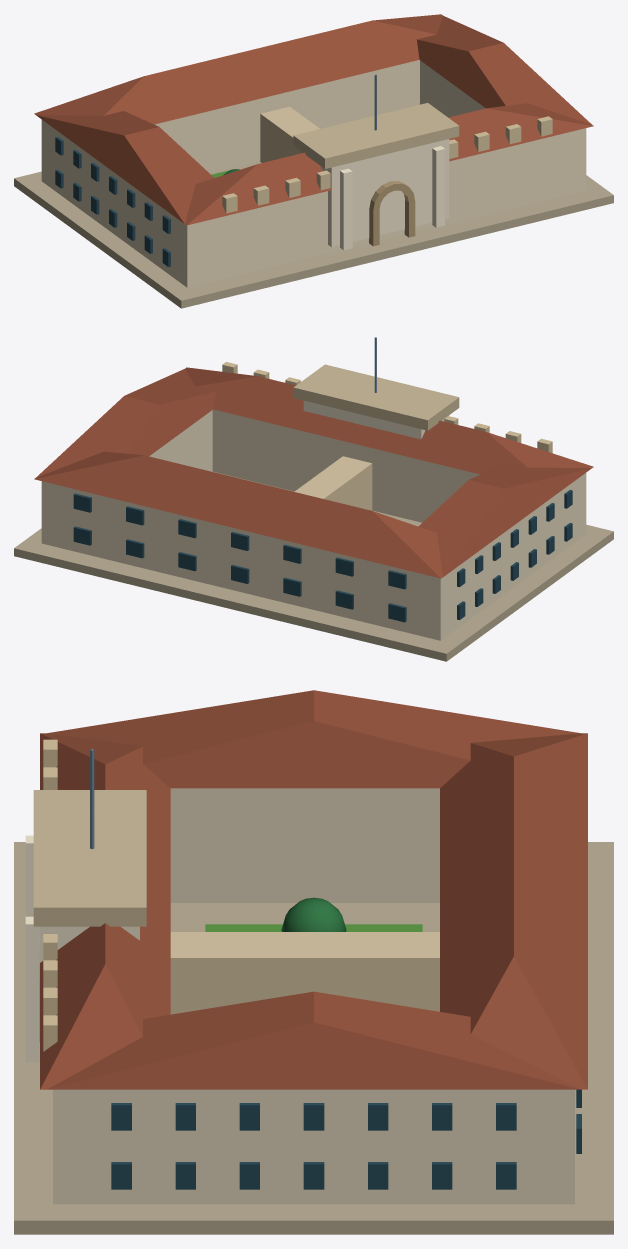
File: la-moneda.glb
3 renders of one model, top to bottom at view 1: azimuth 30°, elevation 25°; view 2: azimuth 150°, elevation 25°; view 3: azimuth 270°, elevation 25°, orthographic. The views are drawn at different scales.
Parts seen in each view (by area): view 1: roof_A28A6E, body_E2DBCA, base_B8B49D, body_EBE4D3, body_CDC3AF, detail_D0C7B3, body_DFD8C7, body_EFE9D9, detail_6B6A5B, body_C5BBA5; view 2: roof_A28A6E, body_E2DBCA, base_B8B49D, detail_6B6A5B, body_CDC3AF, body_DFD8C7, body_EBE4D3, detail_D0C7B3; view 3: roof_A28A6E, body_E2DBCA, base_B8B49D, body_DFD8C7, body_CDC3AF, detail_6B6A5B, body_EFE9D9, detail_D0C7B3, courtyard, courtyard_7F996B, body_EBE4D3.
Part boxes in pixels (x1=…): roof_A28A6E: x1=34, y1=14, x2=593, y2=225; body_E2DBCA: x1=41, y1=60, x2=586, y2=287; base_B8B49D: x1=14, y1=161, x2=613, y2=308; body_EBE4D3: x1=320, y1=139, x2=449, y2=247; body_CDC3AF: x1=293, y1=103, x2=459, y2=168; detail_D0C7B3: x1=222, y1=116, x2=552, y2=213; body_DFD8C7: x1=260, y1=106, x2=319, y2=162; body_EFE9D9: x1=340, y1=146, x2=444, y2=250; detail_6B6A5B: x1=55, y1=136, x2=170, y2=266; body_C5BBA5: x1=369, y1=181, x2=415, y2=246; roof_A28A6E: x1=34, y1=367, x2=593, y2=578; body_E2DBCA: x1=41, y1=409, x2=586, y2=640; base_B8B49D: x1=14, y1=471, x2=613, y2=661; detail_6B6A5B: x1=73, y1=490, x2=572, y2=622; body_CDC3AF: x1=293, y1=364, x2=459, y2=430; body_DFD8C7: x1=294, y1=456, x2=372, y2=510; body_EBE4D3: x1=303, y1=400, x2=449, y2=439; detail_D0C7B3: x1=222, y1=362, x2=552, y2=453; roof_A28A6E: x1=40, y1=690, x2=587, y2=1089; body_E2DBCA: x1=53, y1=788, x2=574, y2=1204; base_B8B49D: x1=14, y1=842, x2=613, y2=1234; body_DFD8C7: x1=170, y1=932, x2=439, y2=1014; body_CDC3AF: x1=33, y1=790, x2=146, y2=926; detail_6B6A5B: x1=111, y1=1089, x2=581, y2=1189; body_EFE9D9: x1=25, y1=835, x2=39, y2=1062; detail_D0C7B3: x1=43, y1=739, x2=57, y2=1051; courtyard: x1=281, y1=897, x2=346, y2=931; courtyard_7F996B: x1=205, y1=924, x2=422, y2=931; body_EBE4D3: x1=40, y1=926, x2=139, y2=962.
Bounding box in the file's own units: 1 × 0.3641 × 0.6699.
